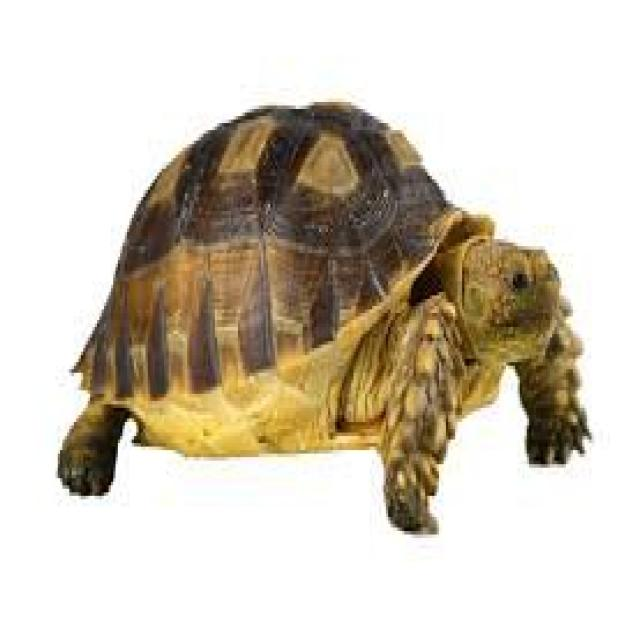turtle: (153, 119, 595, 547)
